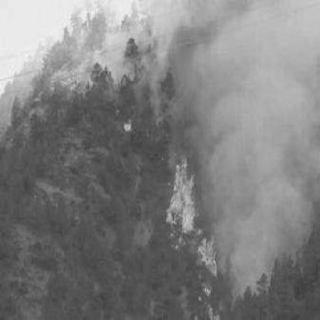Fire: (191, 232, 221, 276), (200, 284, 224, 316), (121, 113, 131, 133)
Smoke: (199, 54, 299, 194)
